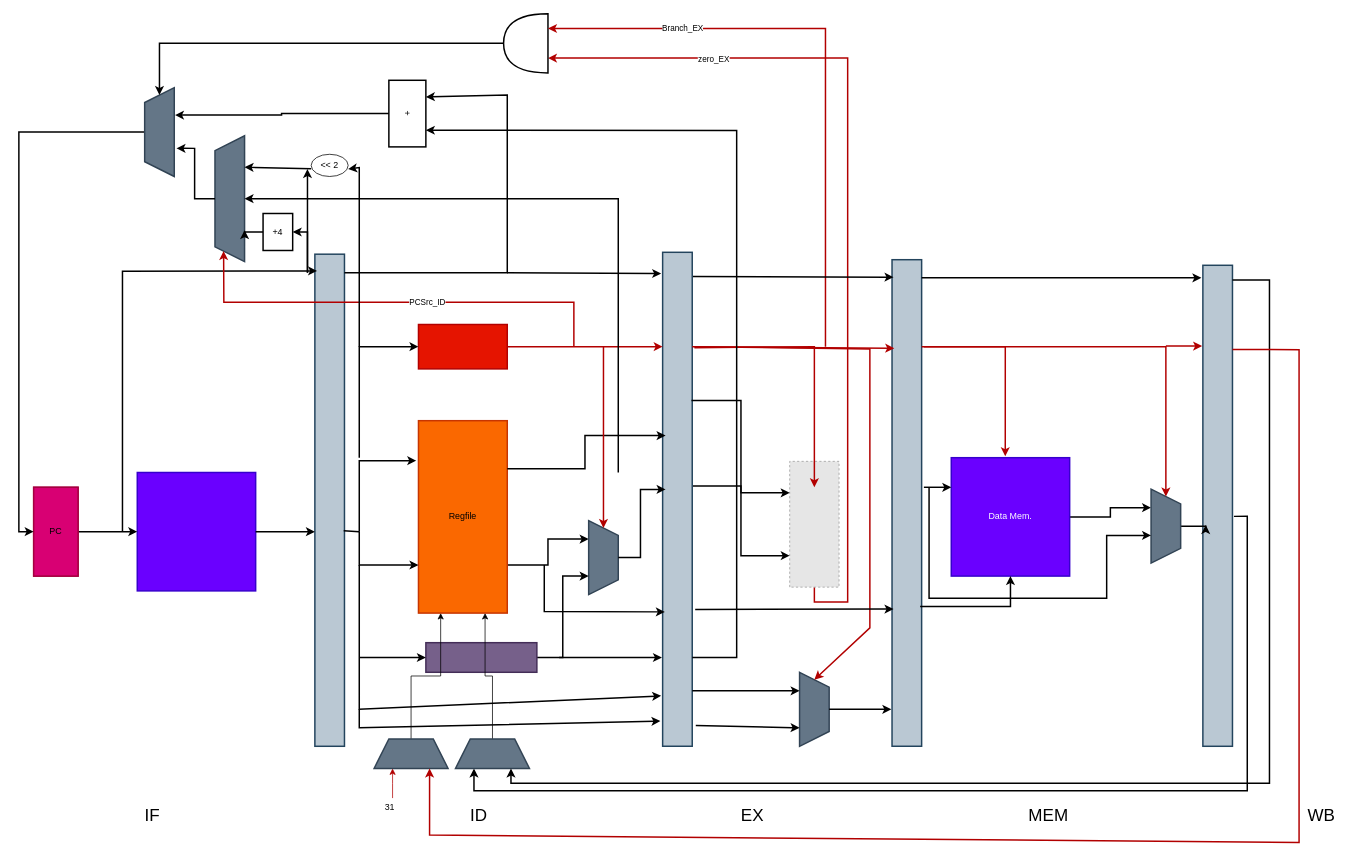
Some shapes in this 1356 by 861 pixel diagram are drawn without their labels. Grey dashed boxes stand in for pictures. The shapes that lost their labels are listed below. From the top down, each one's centre as x and y in pixels, then its label:
the point at 462,346: Controller
the point at 196,531: Inst. Mem
the point at 481,657: Imm. Ext.
